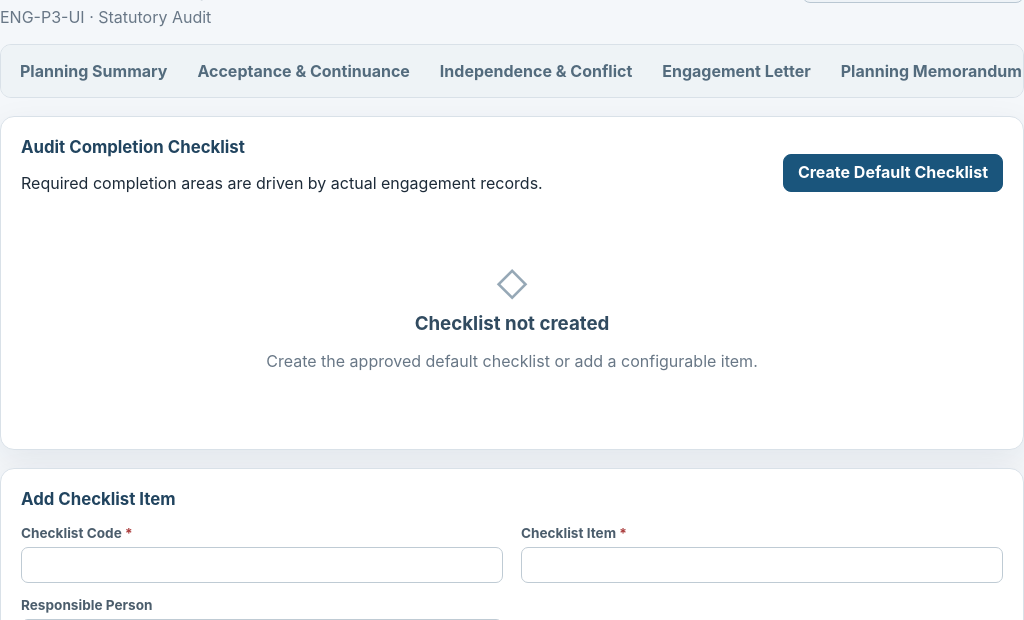
Phase 3 React interactions › creates the approved default completion checklist
The width and height of the screenshot is (1024, 620).
Click the button "Create Default Checklist": {"x": 893, "y": 173} [783, 154, 1003, 192]
(page scrolled)
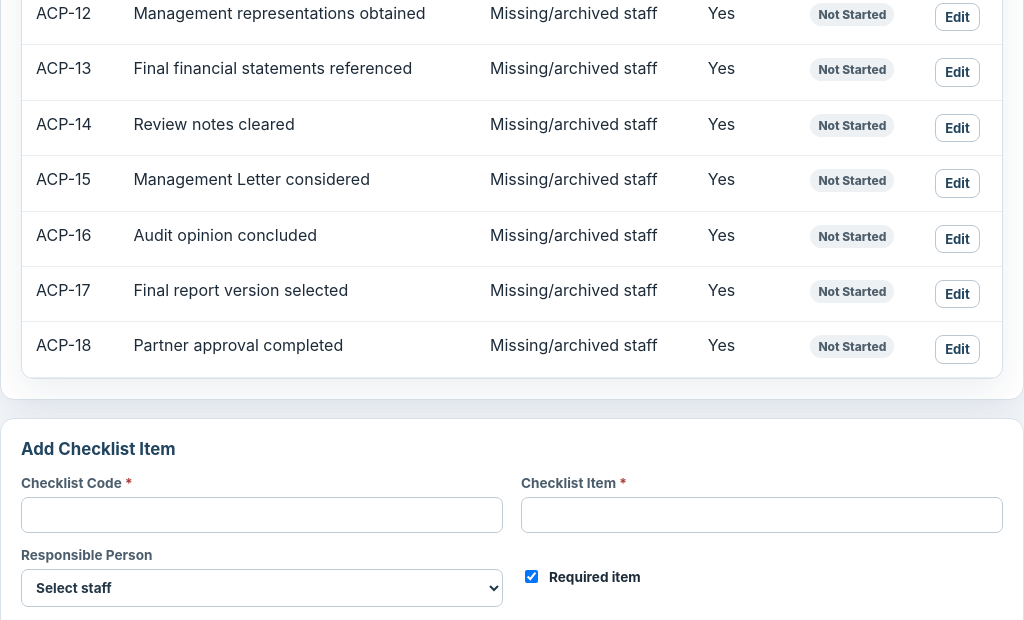
Expected: the text "ACP-18" is shown, [22, 322, 119, 377]
